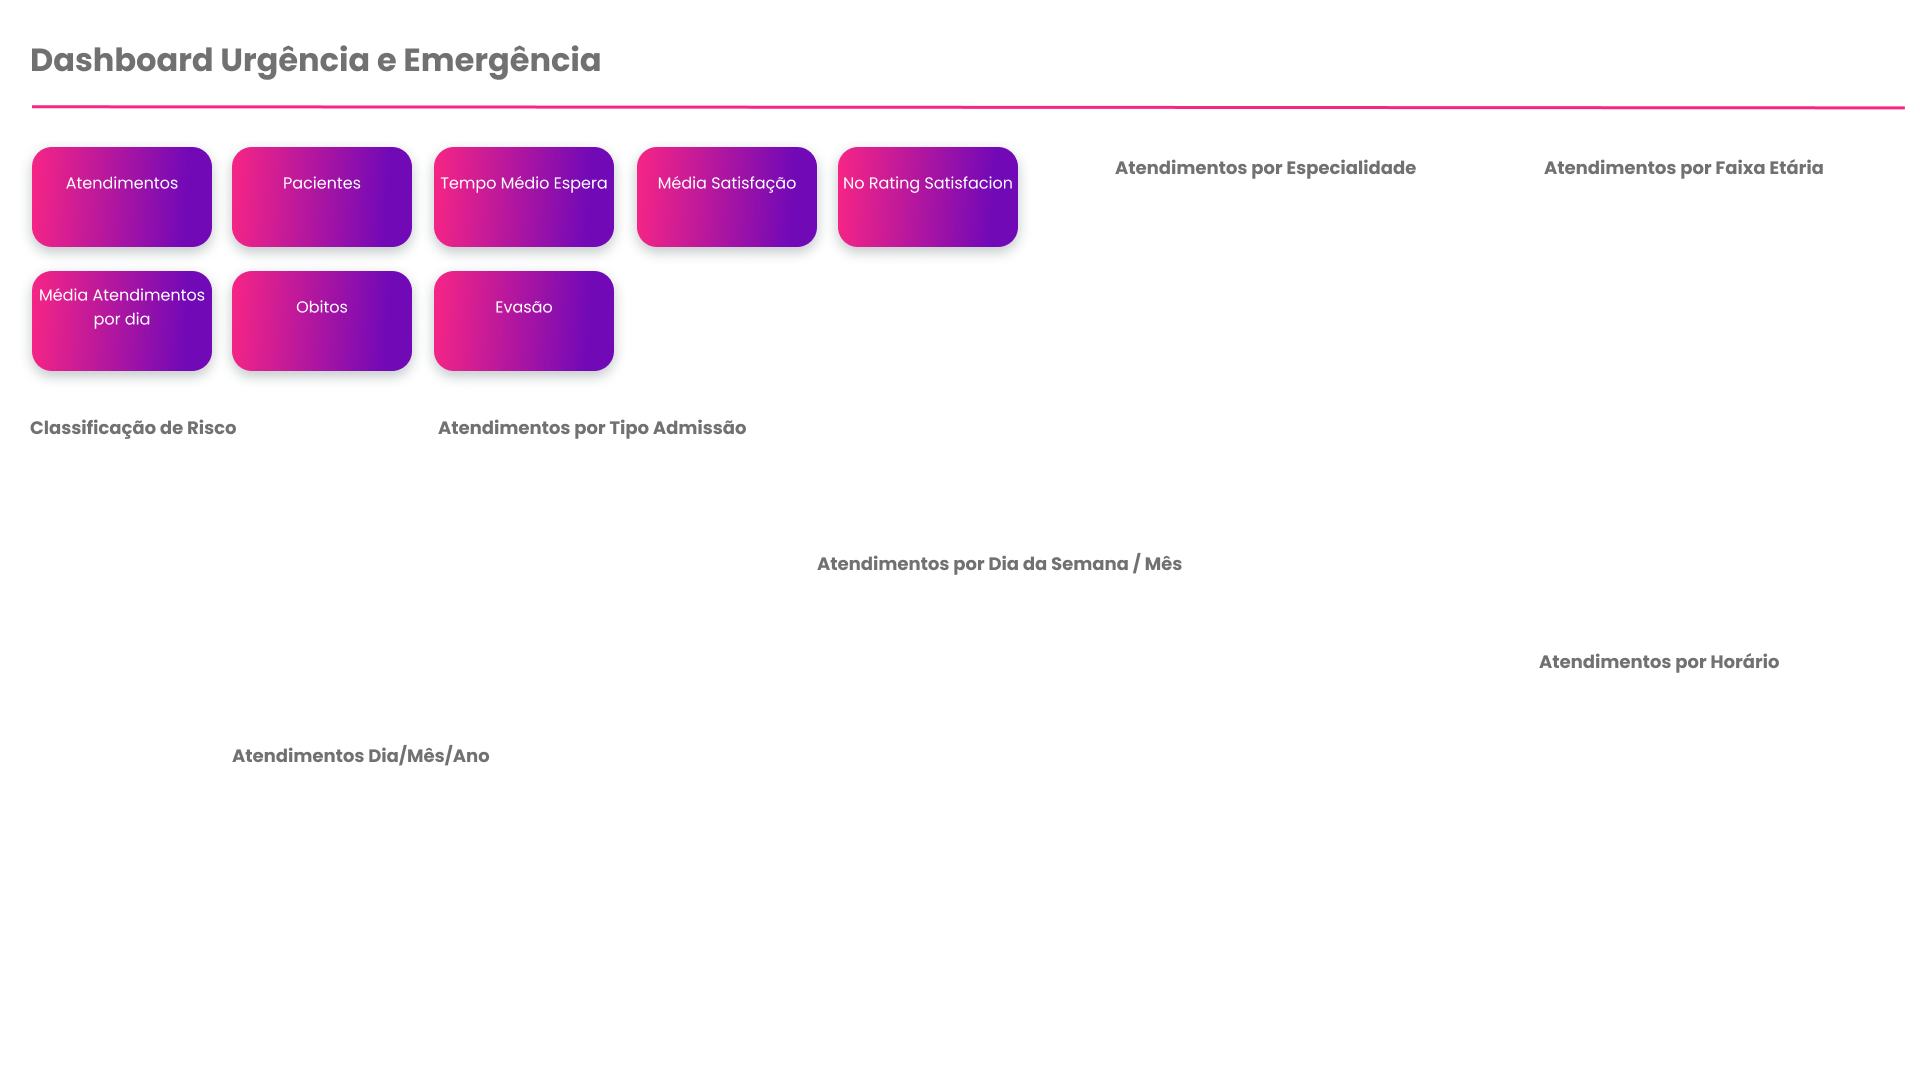

The dashboard page shown, as its layout file describes it:
{"tool":"powerbi","page":{"name":"principal","canvas":[1920,1080],"ordinal":0},"visuals":[{"type":"card","fields":{"Values":["_MEDIDAS.Contagem Pacientes Unicos"]},"box":[232,204.3,179.5,35],"z":0},{"type":"card","fields":{"Values":["_MEDIDAS.Contagem Atendimentos"]},"box":[30.6,204.3,180.9,36.5],"z":1000},{"type":"card","fields":{"Values":["_MEDIDAS.Tempo Medio Espera"]},"box":[434.8,205.7,179.5,35],"z":2000},{"type":"card","fields":{"Values":["_MEDIDAS.Average Satisfaction Score"]},"box":[636.1,204.3,180.9,36.5],"z":3000},{"type":"card","fields":{"Values":["_MEDIDAS.% No Rating"]},"box":[838.9,204.3,179.5,35],"z":4000},{"type":"barChart","fields":{"Y":["_MEDIDAS.Atendimentos"],"Category":["ER.ESPECIALIDADE"]},"box":[1078.3,178.3,368.3,340],"z":5000},{"type":"pivotTable","fields":{"Rows":["HORARIO.horario faixa"],"Values":["_MEDIDAS.Atendimentos"],"Columns":["CALENDARIO.Nome do Semana"]},"box":[1425.7,672.9,447.1,370],"z":6000},{"type":"pivotTable","fields":{"Rows":["CALENDARIO.Nome do Semana"],"Columns":["CALENDARIO.Nome do Mês"],"Values":["_MEDIDAS.Atendimentos"]},"box":[758.6,668.6,501.4,388.6],"z":7000},{"type":"barChart","fields":{"Category":["CALENDARIO.Nome do Semana"],"Y":["_MEDIDAS.Atendimentos"]},"box":[1260,718.6,120,325],"z":8000},{"type":"columnChart","fields":{"Category":["CALENDARIO.Nome do Mês"],"Y":["_MEDIDAS.Atendimentos"]},"box":[811.4,571.4,431.4,120],"z":9000},{"type":"TornadoChart1452517688218","fields":{"Category":["ER.FAIXA_ETARIA"],"Values":["_MEDIDAS.Atendimentos"],"Series":["ER.SEXO"]},"box":[1501.7,178.3,371.7,466.7],"z":10000},{"type":"card","fields":{"Values":["_MEDIDAS.MediaAtendimentosDiarios"]},"box":[30.6,328.3,180.9,36.5],"z":11000},{"type":"card","fields":{"Values":["_MEDIDAS.% Obito"]},"box":[232,328.3,180.9,36.5],"z":12000},{"type":"card","fields":{"Values":["_MEDIDAS.Evasão"]},"box":[433.3,328.3,180.9,36.5],"z":13000},{"type":"pieChart","fields":{"Y":["_MEDIDAS.Contagem Atendimentos"],"Category":["ER.TIPO_ADMISSAO"]},"box":[435,448.3,323.3,176.7],"z":14000},{"type":"lineChart","fields":{"Category":["CALENDARIO.Date.Variation.Hierarquia de datas.Ano","CALENDARIO.Date.Variation.Hierarquia de datas.Mês","CALENDARIO.Date.Variation.Hierarquia de datas.Dia"],"Y":["_MEDIDAS.Atendimentos"]},"box":[30,781.7,711.7,275],"z":15000},{"type":"barChart","fields":{"Category":["ER.CLASSIFICACAO"],"Y":["_MEDIDAS.Atendimentos"]},"box":[30,448.6,382.9,270],"z":16000},{"type":"slicer","fields":{"Values":["CALENDARIO.Date"]},"box":[1670,48.7,234.4,47.4],"z":17000}]}

Visuals, with their boxes in screenshot pixels (x1, y1, x2, y2), scaled from the page's 1920x1080 canvas onto the 1920x1080 screenshot:
card - _MEDIDAS.Contagem Pacientes Unicos: <bbox>232, 204, 412, 239</bbox>
card - _MEDIDAS.Contagem Atendimentos: <bbox>31, 204, 212, 241</bbox>
card - _MEDIDAS.Tempo Medio Espera: <bbox>435, 206, 614, 241</bbox>
card - _MEDIDAS.Average Satisfaction Score: <bbox>636, 204, 817, 241</bbox>
card - _MEDIDAS.% No Rating: <bbox>839, 204, 1018, 239</bbox>
barChart - _MEDIDAS.Atendimentos x ER.ESPECIALIDADE: <bbox>1078, 178, 1447, 518</bbox>
pivotTable - HORARIO.horario faixa x _MEDIDAS.Atendimentos: <bbox>1426, 673, 1873, 1043</bbox>
pivotTable - CALENDARIO.Nome do Semana x CALENDARIO.Nome do Mês: <bbox>759, 669, 1260, 1057</bbox>
barChart - CALENDARIO.Nome do Semana x _MEDIDAS.Atendimentos: <bbox>1260, 719, 1380, 1044</bbox>
columnChart - CALENDARIO.Nome do Mês x _MEDIDAS.Atendimentos: <bbox>811, 571, 1243, 691</bbox>
TornadoChart1452517688218 - ER.FAIXA_ETARIA x _MEDIDAS.Atendimentos: <bbox>1502, 178, 1873, 645</bbox>
card - _MEDIDAS.MediaAtendimentosDiarios: <bbox>31, 328, 212, 365</bbox>
card - _MEDIDAS.% Obito: <bbox>232, 328, 413, 365</bbox>
card - _MEDIDAS.Evasão: <bbox>433, 328, 614, 365</bbox>
pieChart - _MEDIDAS.Contagem Atendimentos x ER.TIPO_ADMISSAO: <bbox>435, 448, 758, 625</bbox>
lineChart - CALENDARIO.Date.Variation.Hierarquia de datas.Ano x CALENDARIO.Date.Variation.Hierarquia de datas.Mês: <bbox>30, 782, 742, 1057</bbox>
barChart - ER.CLASSIFICACAO x _MEDIDAS.Atendimentos: <bbox>30, 449, 413, 719</bbox>
slicer - CALENDARIO.Date: <bbox>1670, 49, 1904, 96</bbox>
